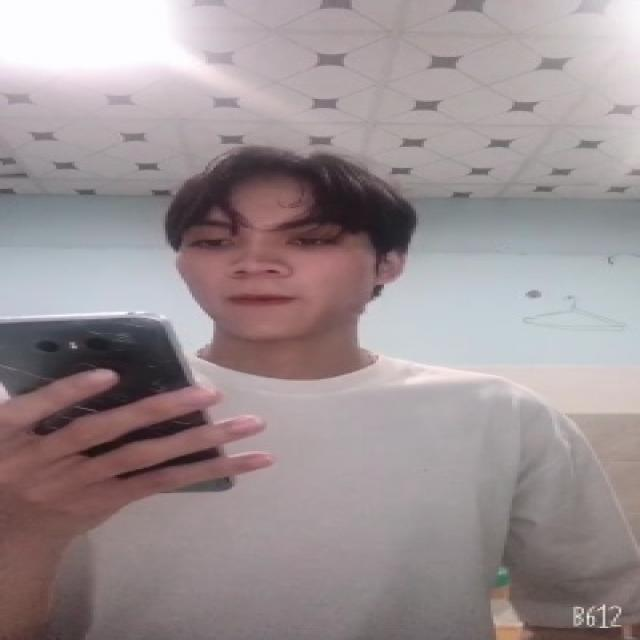Phone: (0, 310, 242, 498)
